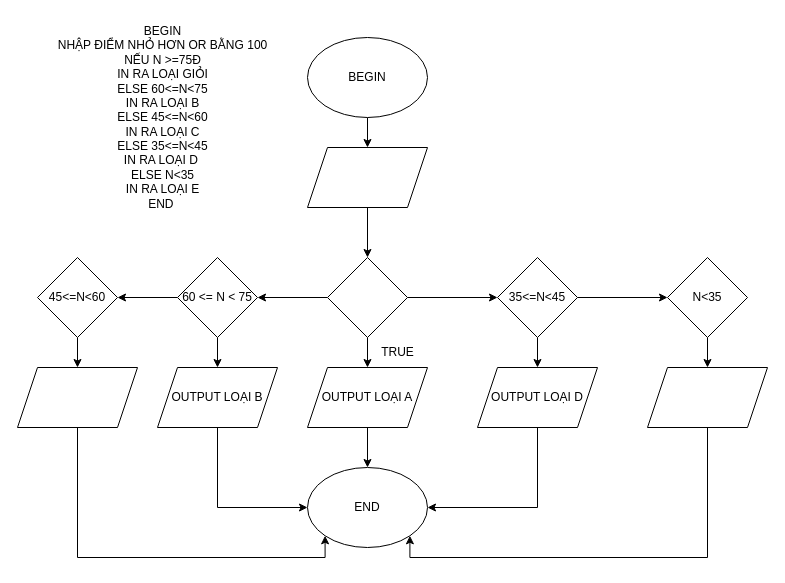
Image size: 785x583. Some labels were removed from this diagram. Each missing label, with the box of its shape:
INPUT n <= 100: (306, 146, 428, 208)
n >=75Đ: (326, 256, 408, 338)
OUTPUT LOẠI C: (16, 366, 138, 428)
OUTPUT LOẠI E: (646, 366, 768, 428)
